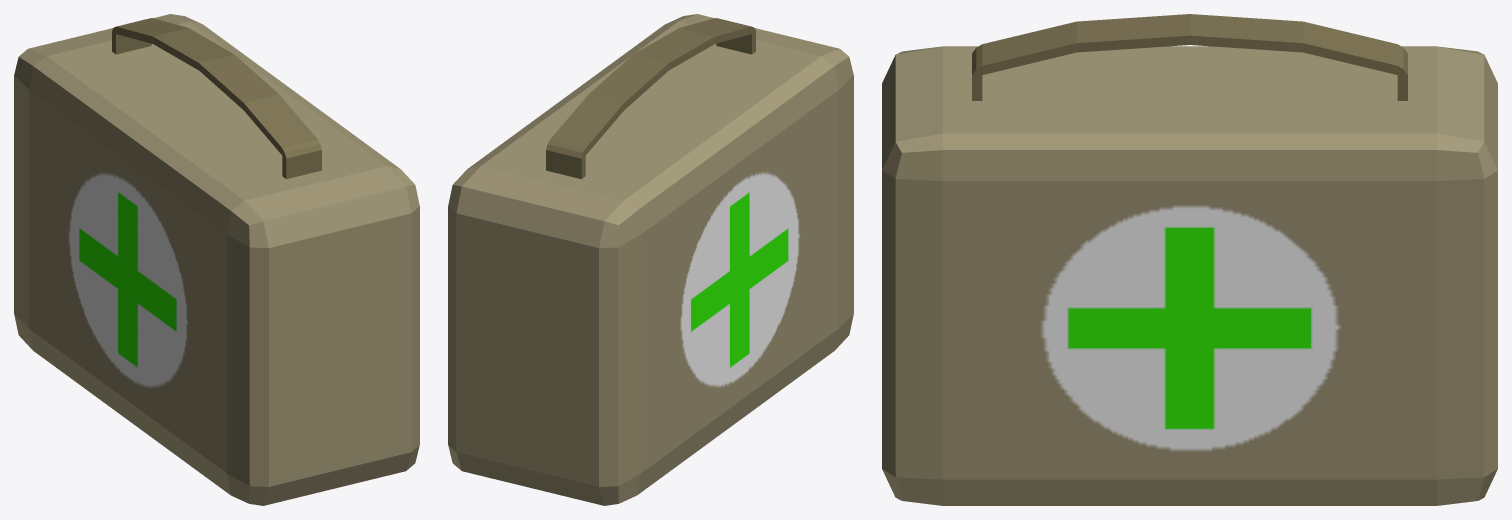
File: FirstAidKit.fbx
3 views of the same model, side by side, from view 1: azimuth 30°, elevation 25°; view 2: azimuth 150°, elevation 25°; view 3: azimuth 270°, elevation 25° (orthographic). The views are drawn at different scales.
Visible parts, largest first — view 1: Health Kit, Strap; view 2: Health Kit, Strap; view 3: Health Kit, Strap.
Part boxes in pixels (x1,y1,x2,y2): Health Kit: [14, 14, 419, 505]; Strap: [112, 18, 321, 179]; Health Kit: [448, 14, 853, 505]; Strap: [546, 18, 755, 179]; Health Kit: [882, 46, 1497, 505]; Strap: [972, 14, 1407, 100].
Size of the model in its own units: 25 by 47.02 by 60.
1 material, 1 textured.
